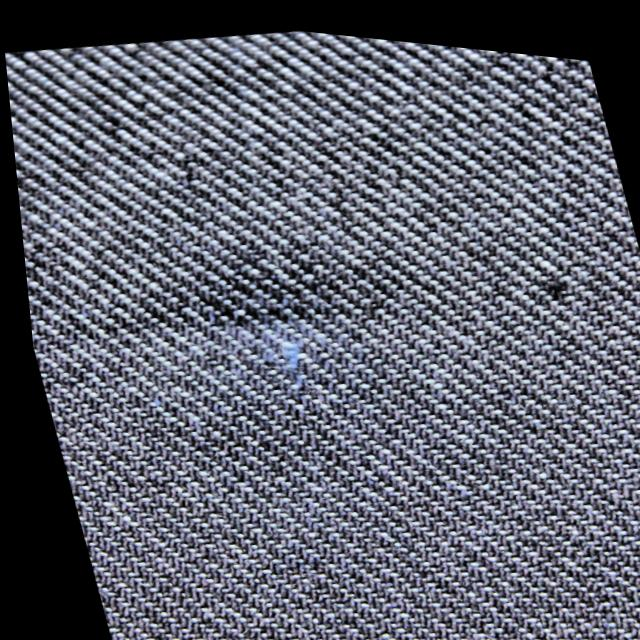Hole: (230, 313, 335, 411), (498, 242, 594, 312)
